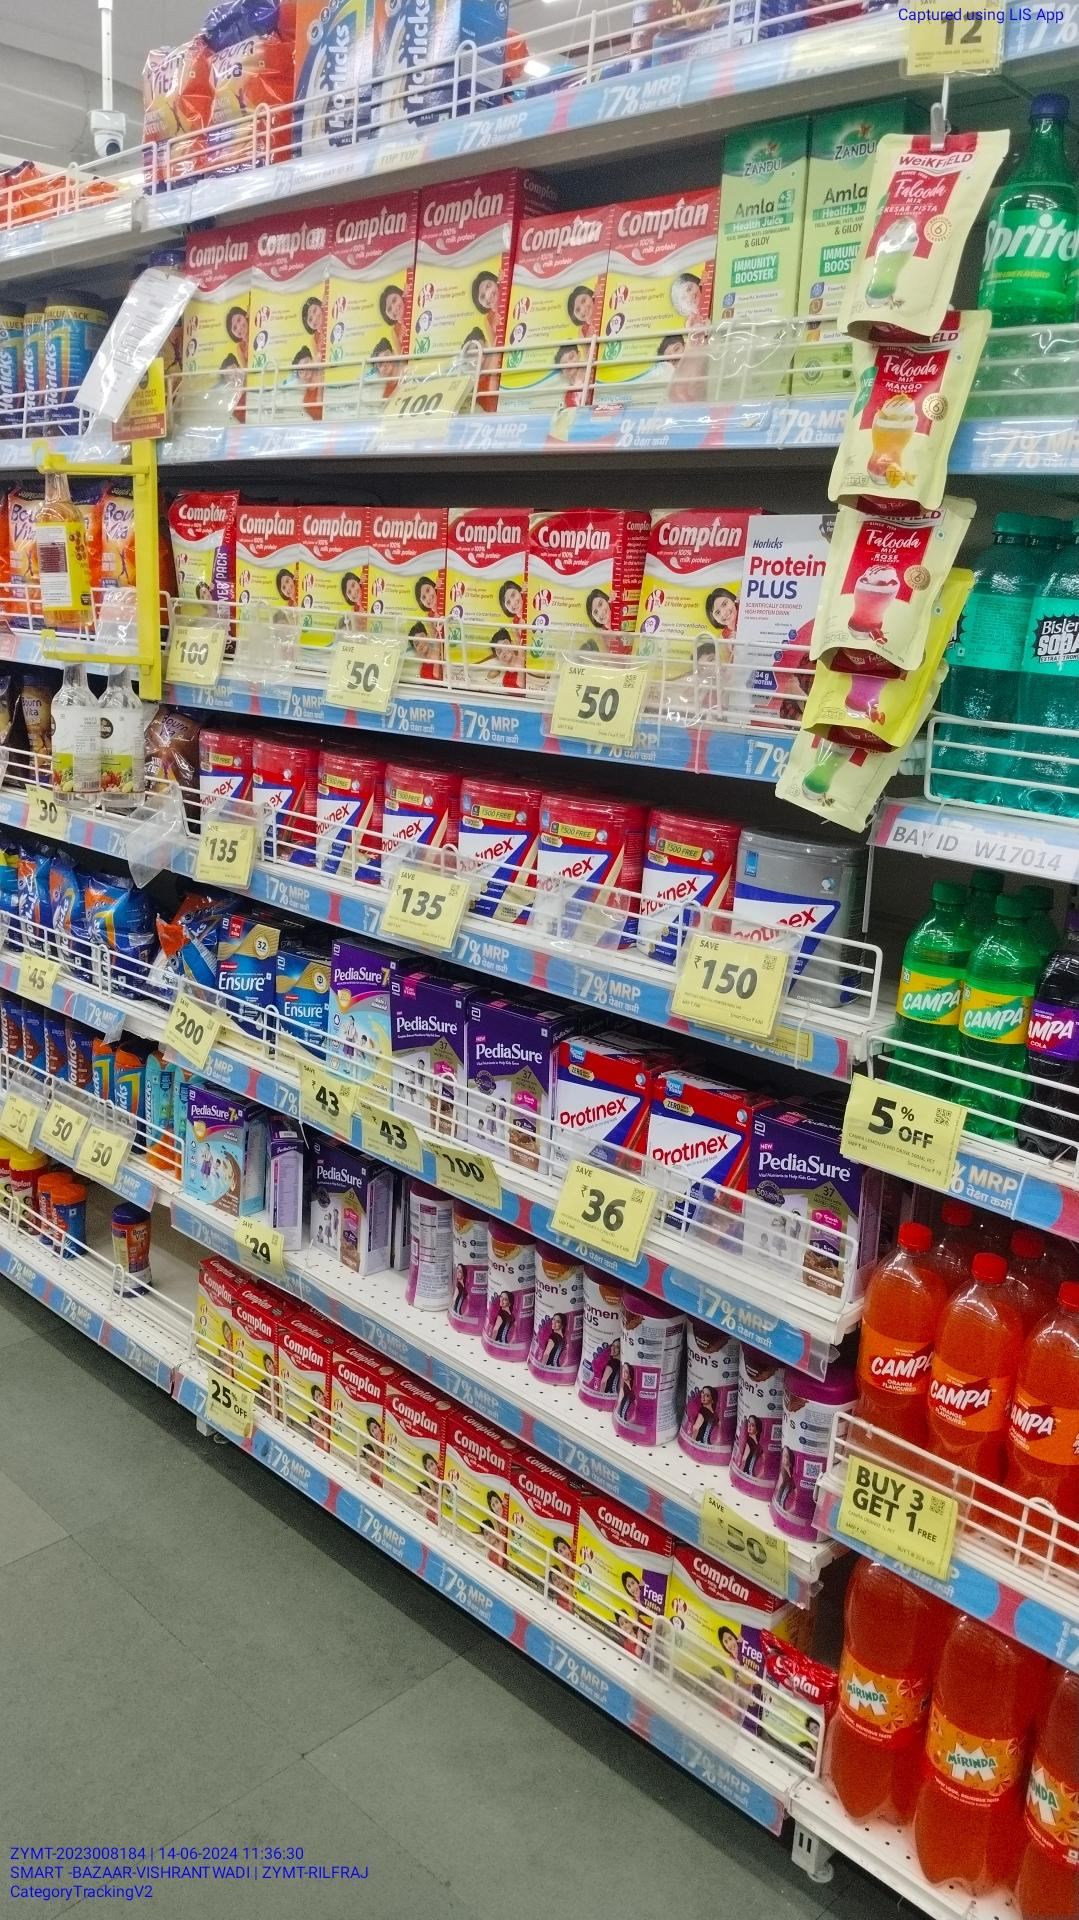BOURN_VITA_FIVE_STAR_MAGIC_500_G_JAR: (21, 674, 53, 762)
BOURN_VITA_FIVE_STAR_MAGIC_500_G_POUCH: (145, 708, 200, 793)
HORLICKS_LITE_REGULAR_MALT_500_GM_JAR: (142, 1058, 175, 1166)
PEDIASURE_7_PLUS_CHOCOLATE_400_G_PACK: (185, 1097, 252, 1208)
PEDIASURE_CHOCOLATE_500_G_PACK: (752, 1114, 849, 1302), (464, 1019, 553, 1163), (393, 969, 459, 1134), (311, 1139, 375, 1270)
PROTINEX_CHOCOLATE_400_G_JAR: (256, 742, 314, 860), (199, 728, 243, 828)
PROTINEX_ORIGINAL_400_G_JAR: (731, 840, 867, 942)
PROTINEX_VANILLA_400_G_JAR: (537, 808, 641, 927), (650, 808, 725, 963), (463, 779, 537, 930), (389, 765, 459, 891), (319, 757, 385, 885)
